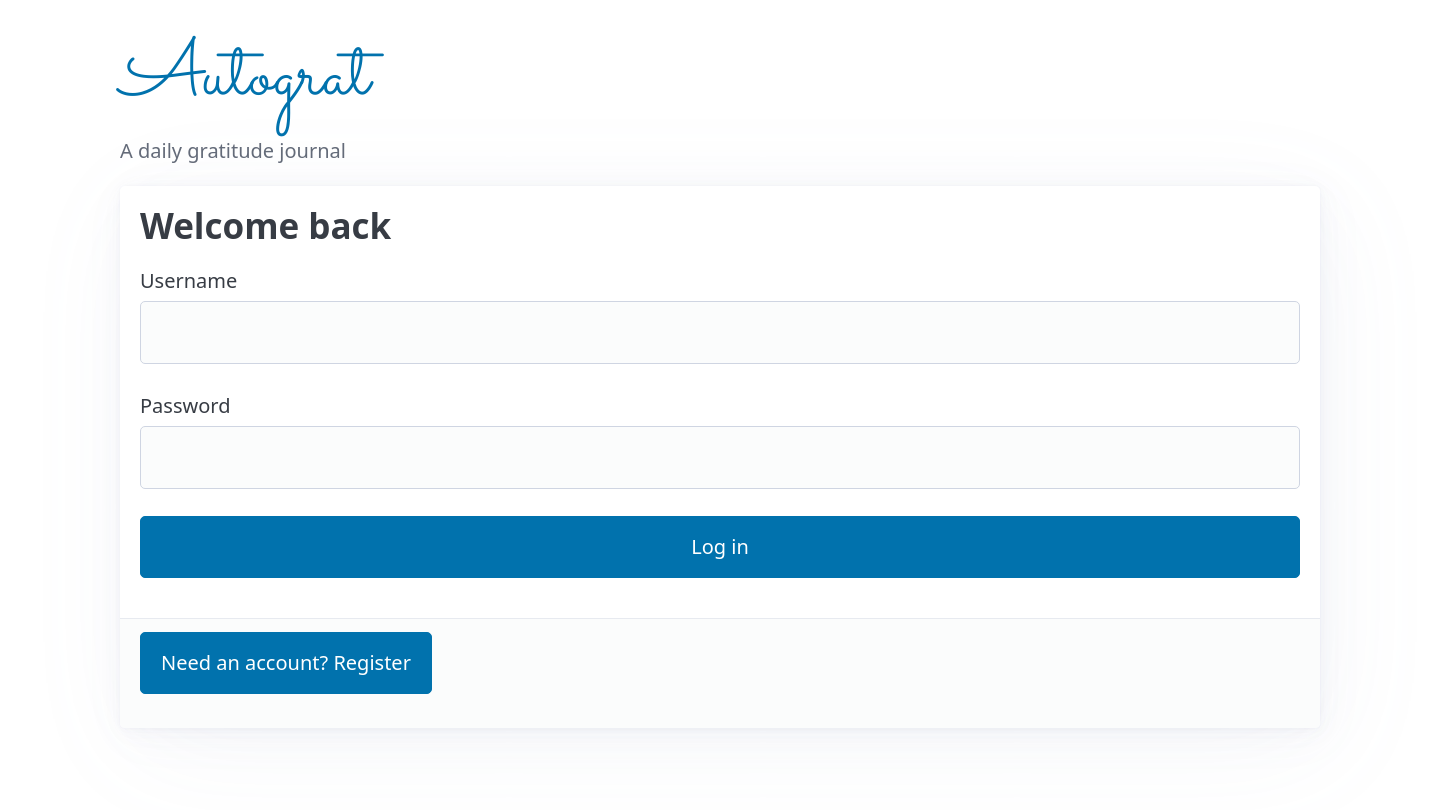
Test: LoginPage › shows the error when logging in fails
In the field labelled "Username": point(720, 333) [140,301,1300,364], type "billy"
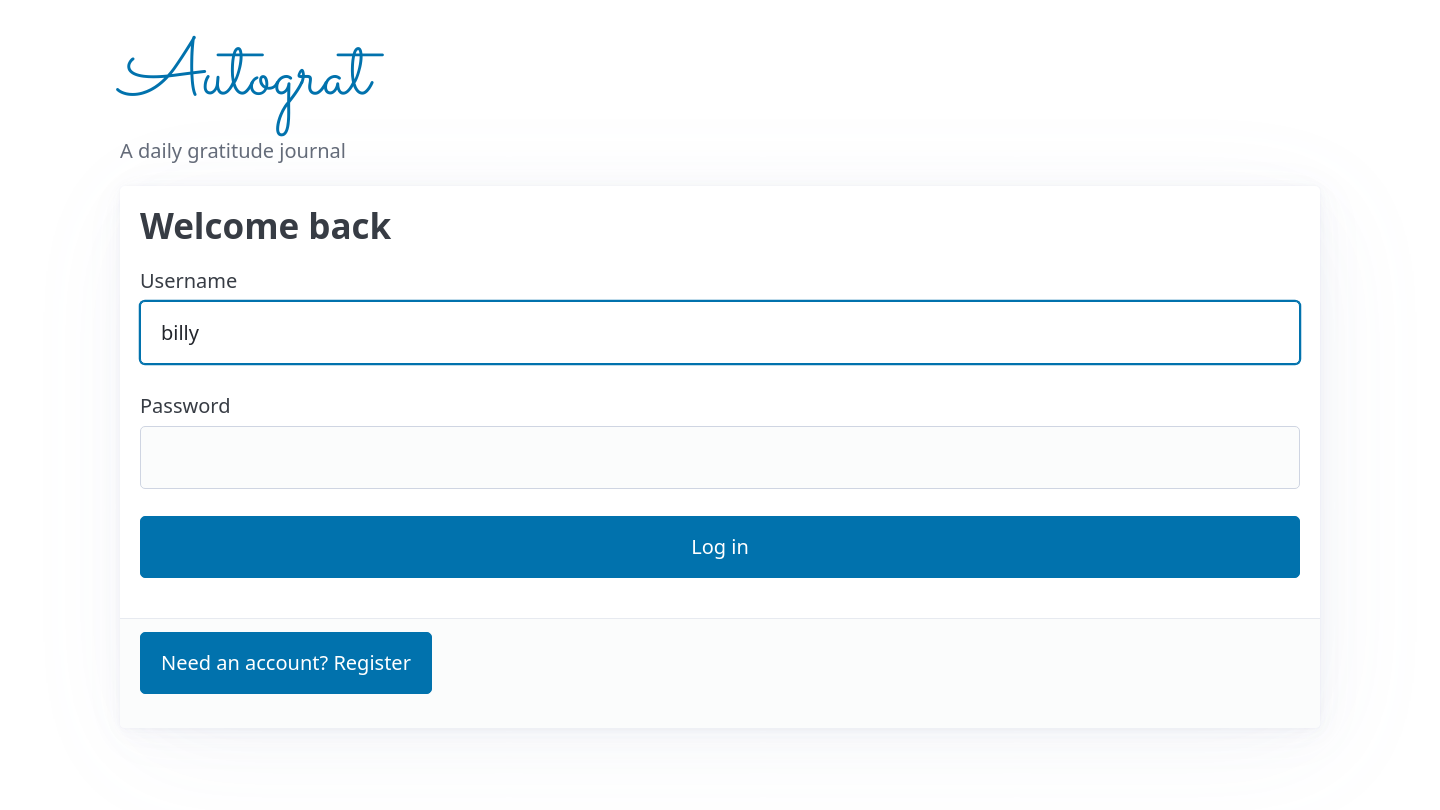
In the password field labelled "Password": point(720, 458) [140,426,1300,489], type "wrong-password"
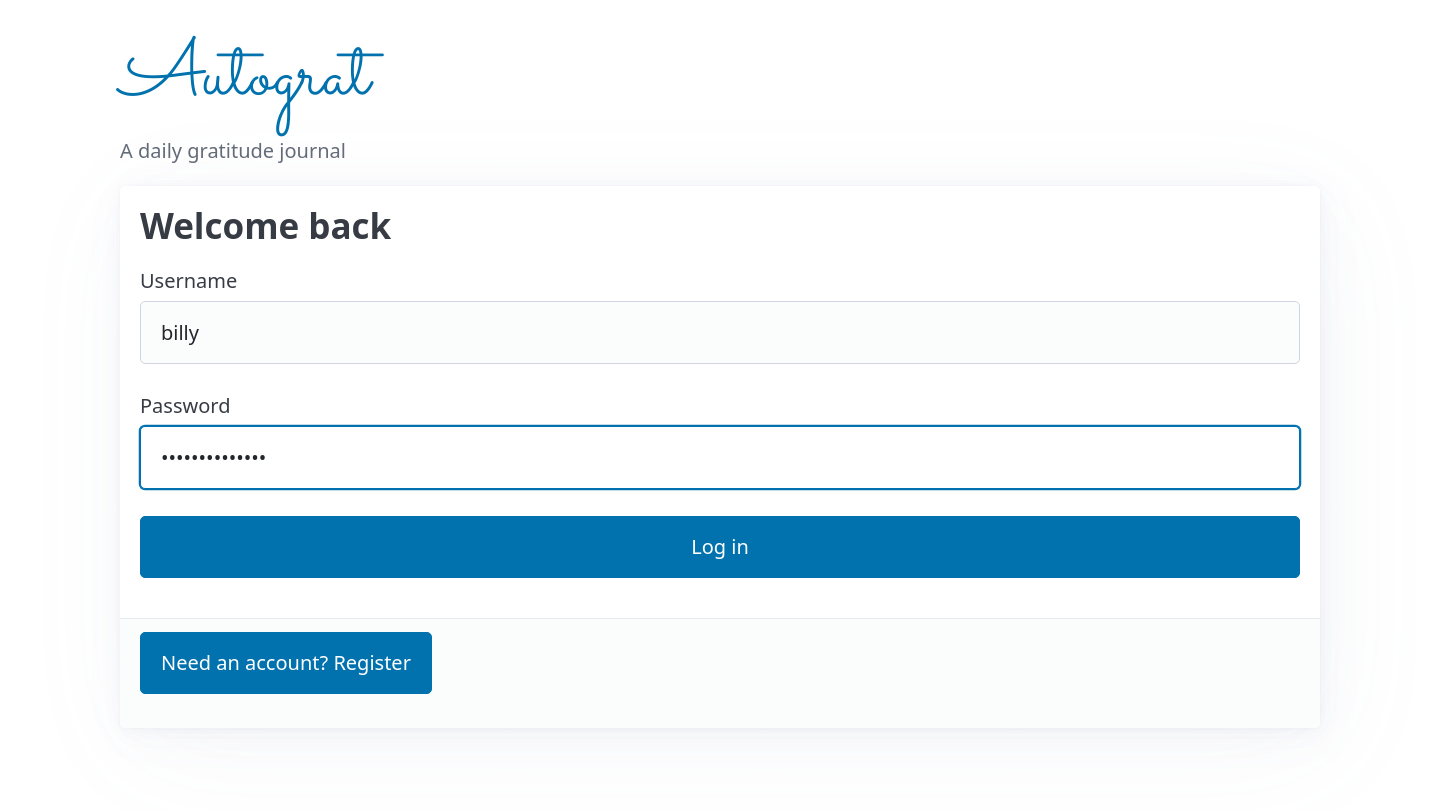
Click the button "Log in": point(720, 547) [140,516,1300,578]
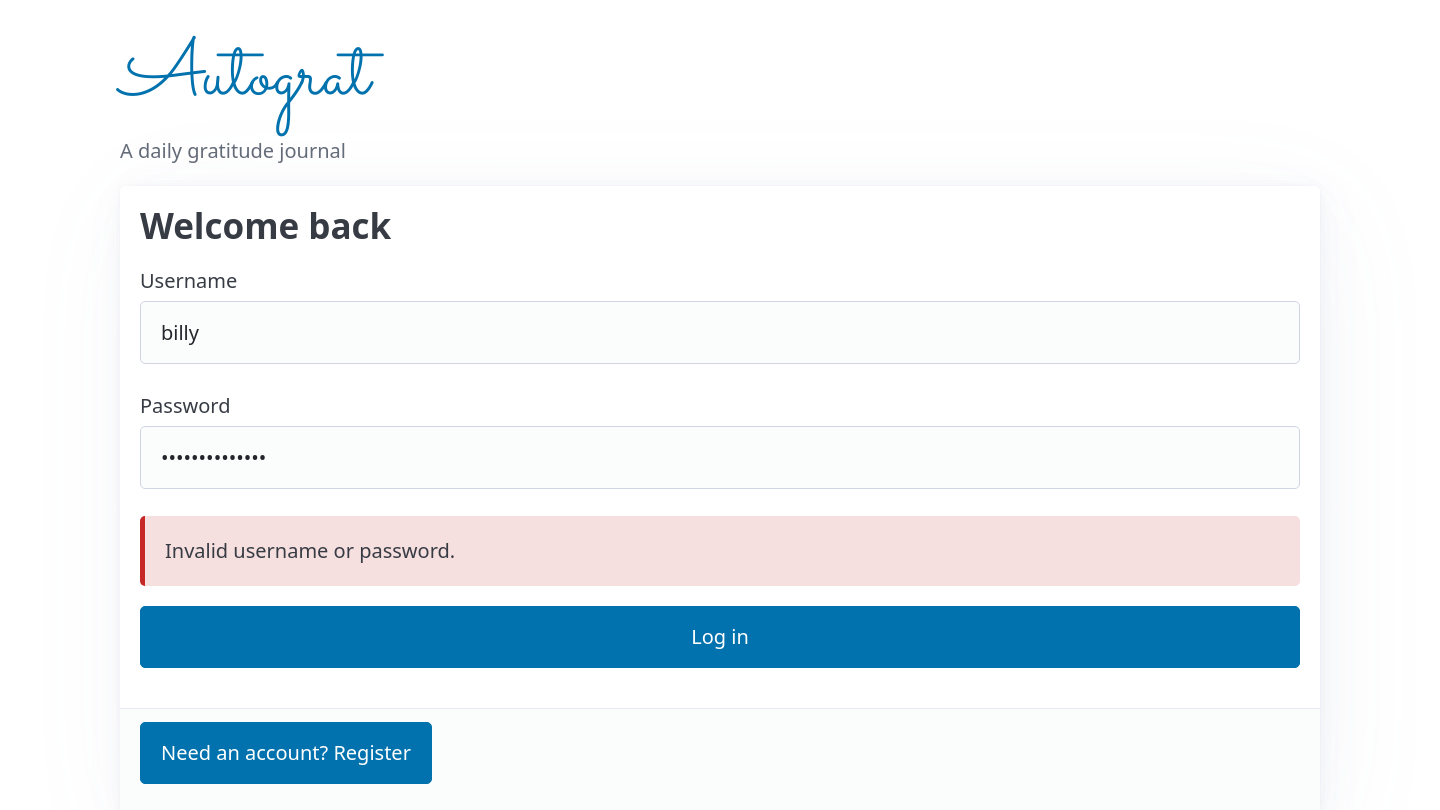
Expected: the message reads "Invalid username or password.", [165,537,455,564]
